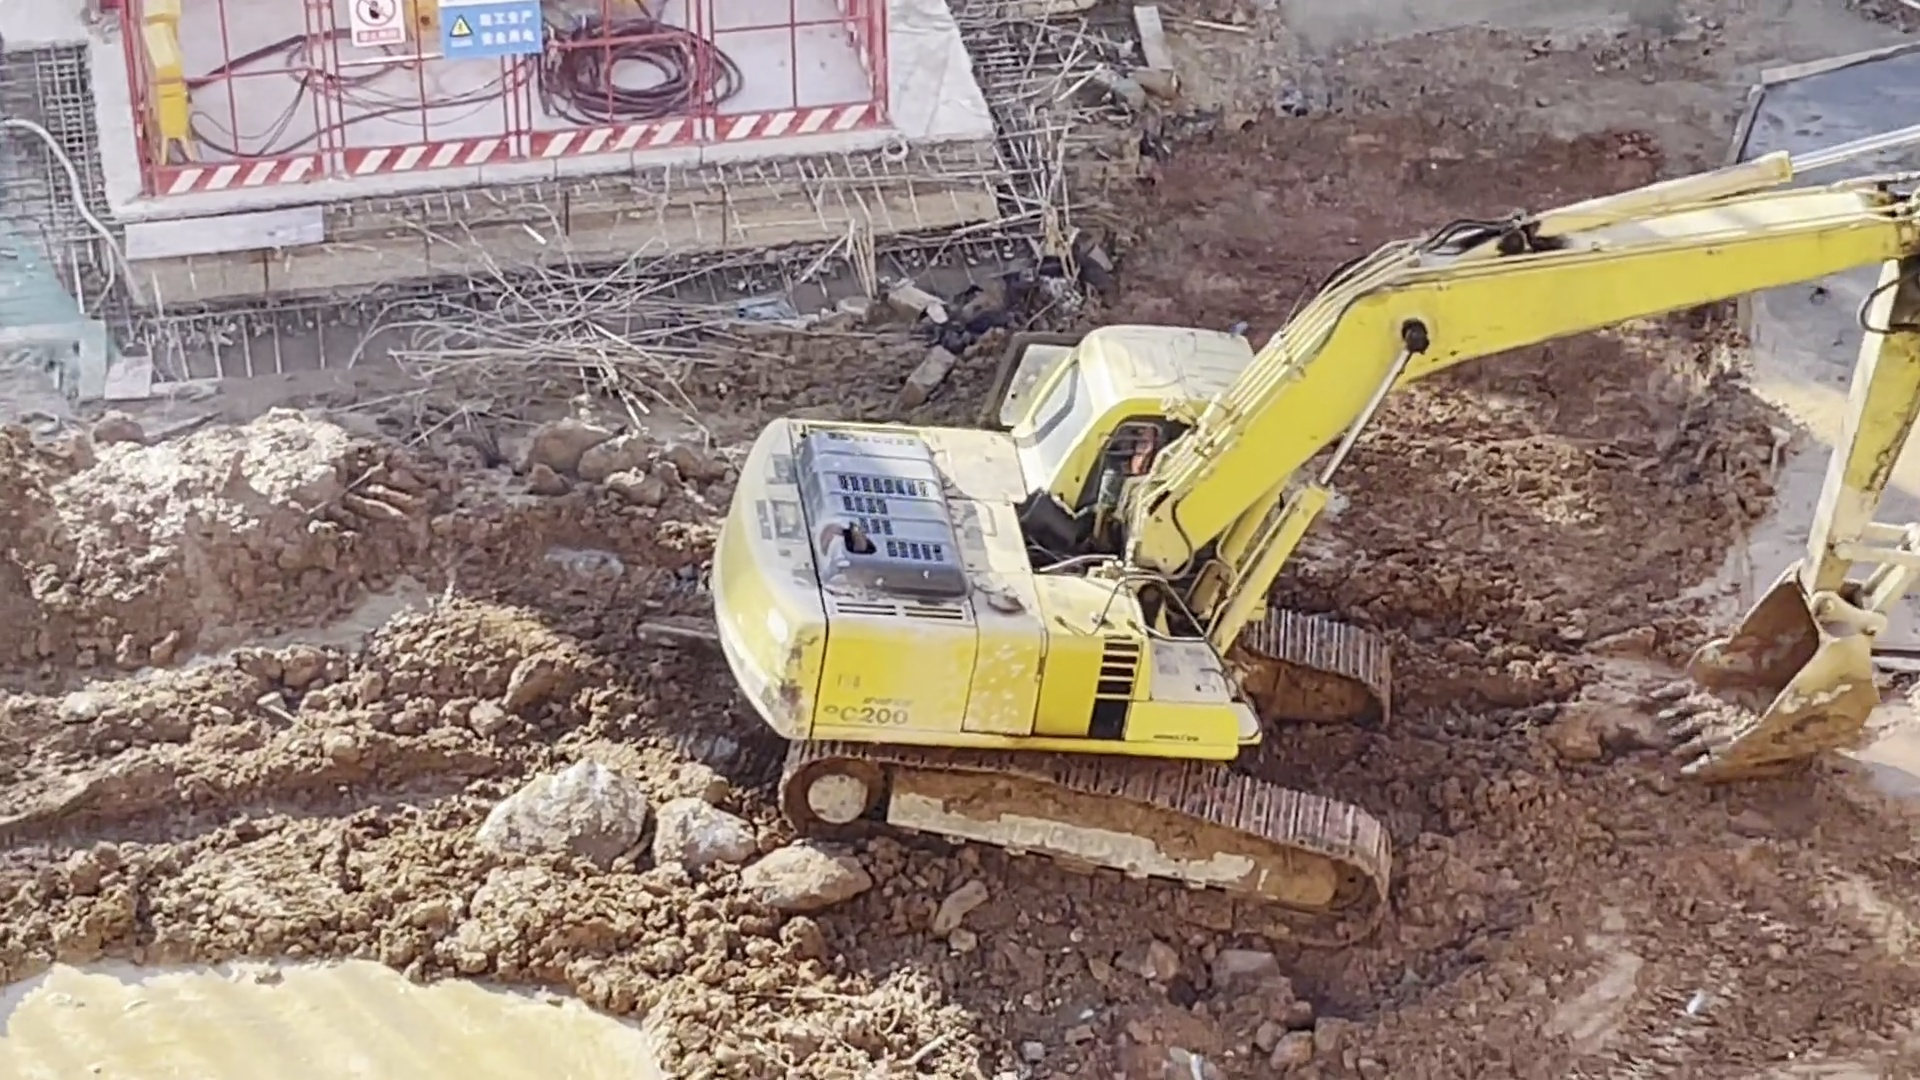slogan: (435, 1, 550, 59)
